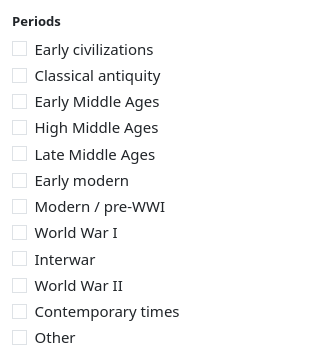
Test: search period ranges appear in a tooltip on hover
Hover over the checkbox labelled "Interwar": (20, 259) [12,251,27,266]
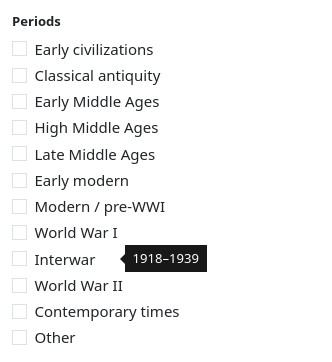
Check: the tooltip reads "1918–1939", box [132,249,199,267]
